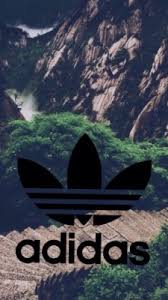adidas: (16, 134, 152, 265)
